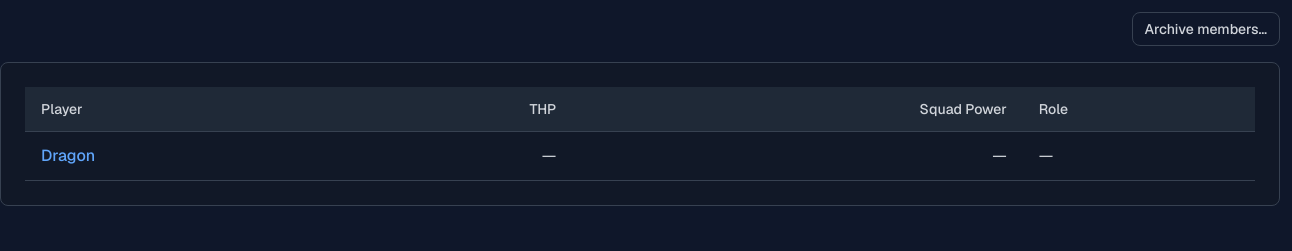
Scenario: MembersTable — entering and exiting selection mode › shows Archive selected (enabled) on the Active view once a row is selected
Click the button "Archive members…": coordinates (1206, 29) [1132,12,1280,46]
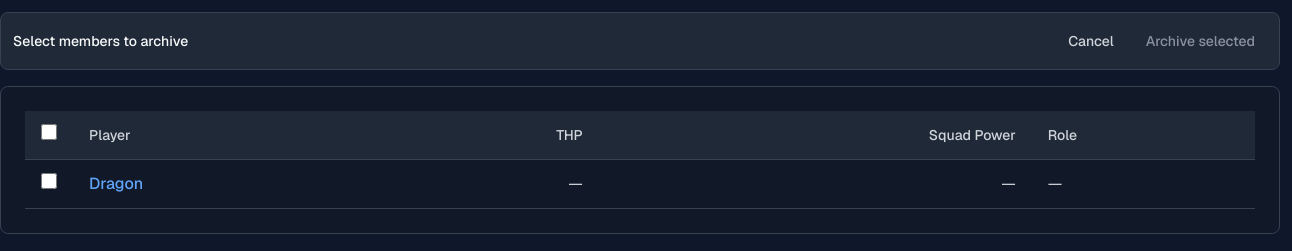
Click the checkbox named "Select Dragon": coordinates (49, 181) [41,173,57,189]
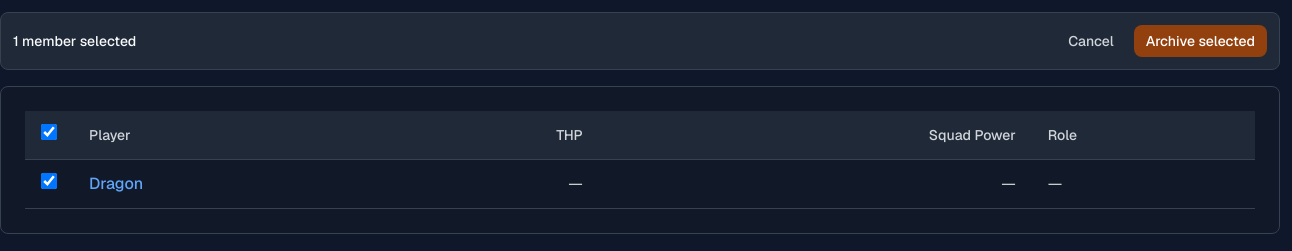
expect the text "1 member selected" is shown: met, box [13,31,136,51]
expect the button "Archive selected" is enabled: met, box [1134,25,1267,57]
